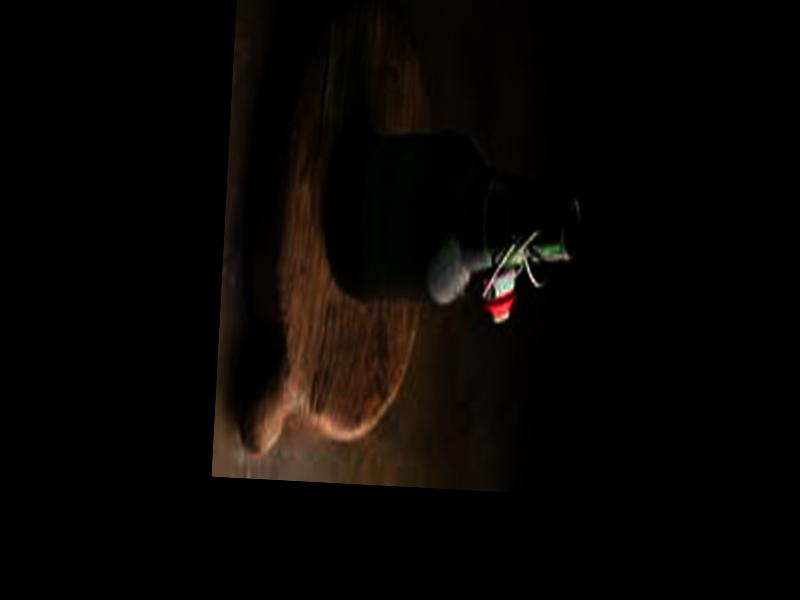Beer: (327, 133, 588, 310)
